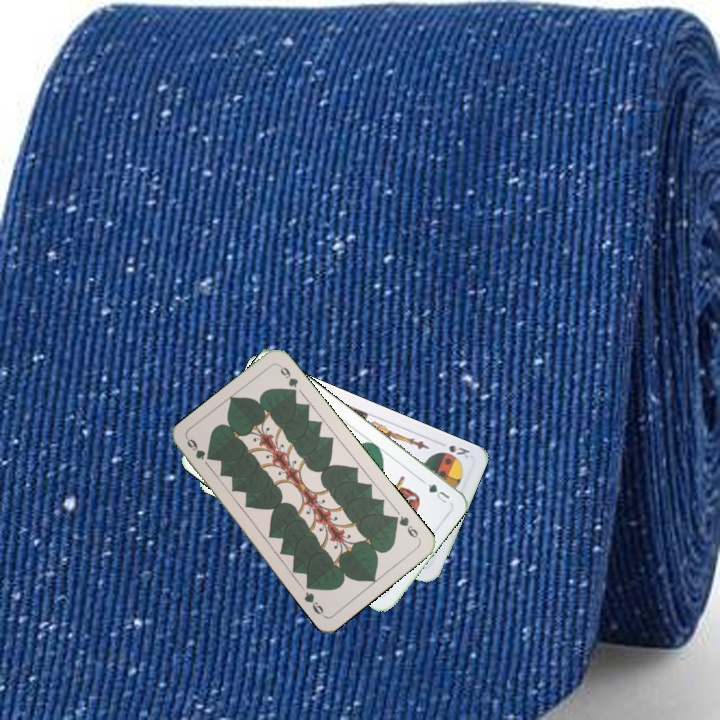G9: (389, 511, 423, 542), (183, 434, 207, 462)
GU: (424, 479, 452, 506)
SK: (445, 441, 472, 462)
